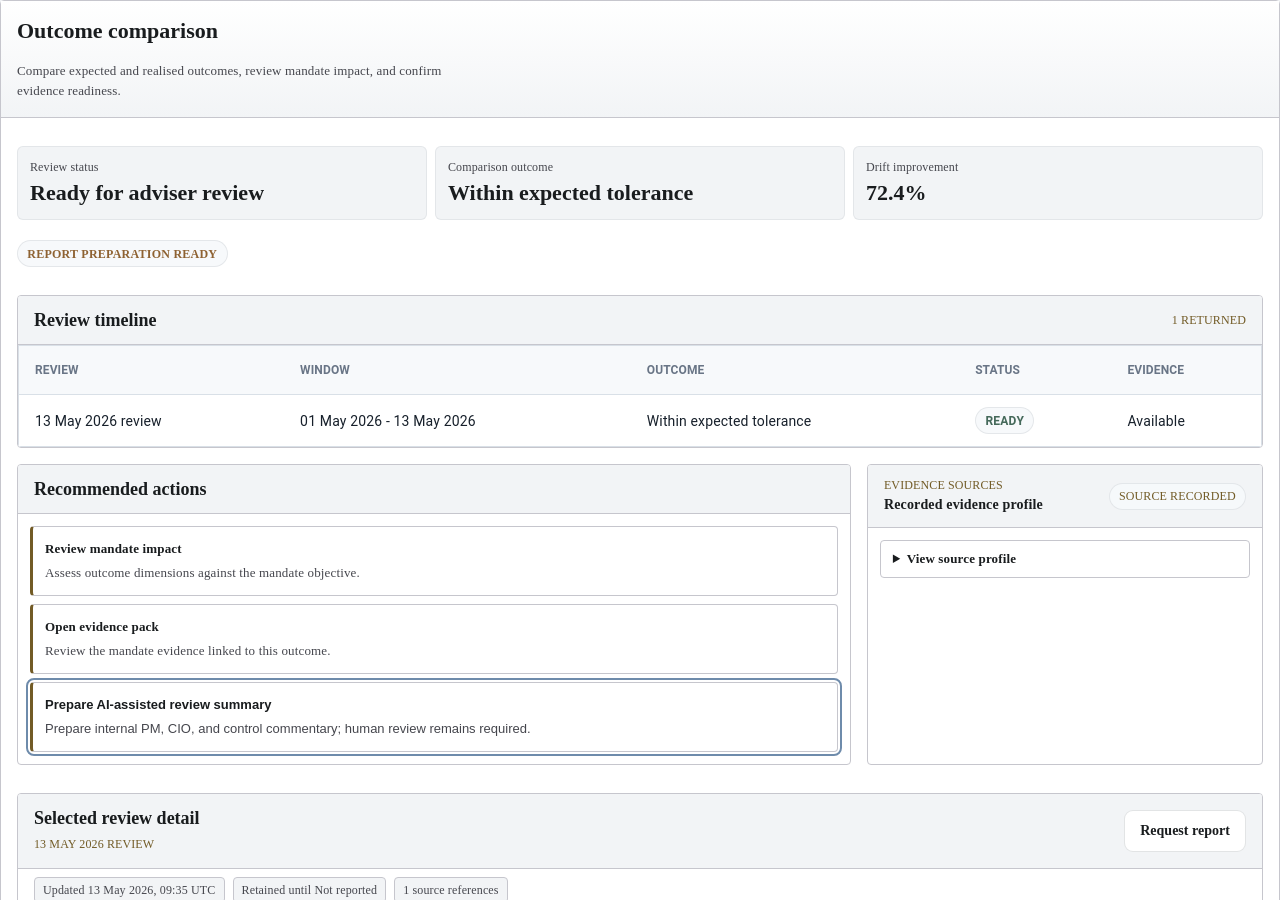
OutcomeReviewPanel › requests an outcome-review narrative
The image size is (1280, 900).
Click the button "Prepare AI-assisted review summary" at (158, 705), box [30,682,838,752]
(page scrolled)
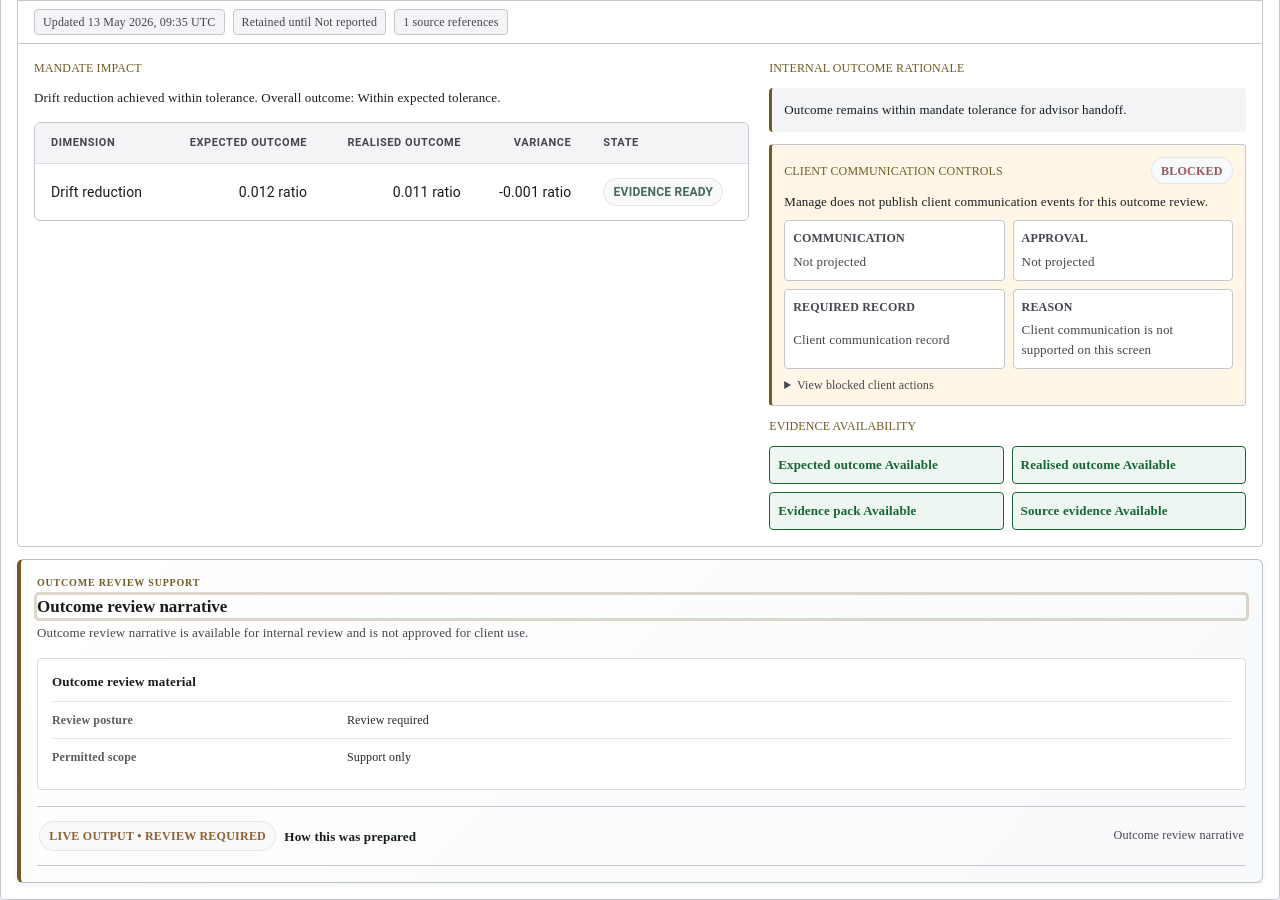
Now the text named "Status Live output • review required" is shown, box [39,822,276,851]
